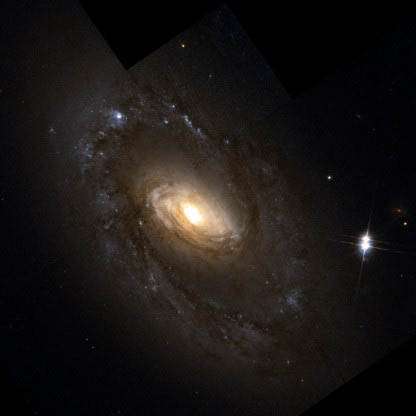NGC 4102: (67, 75, 385, 360)
